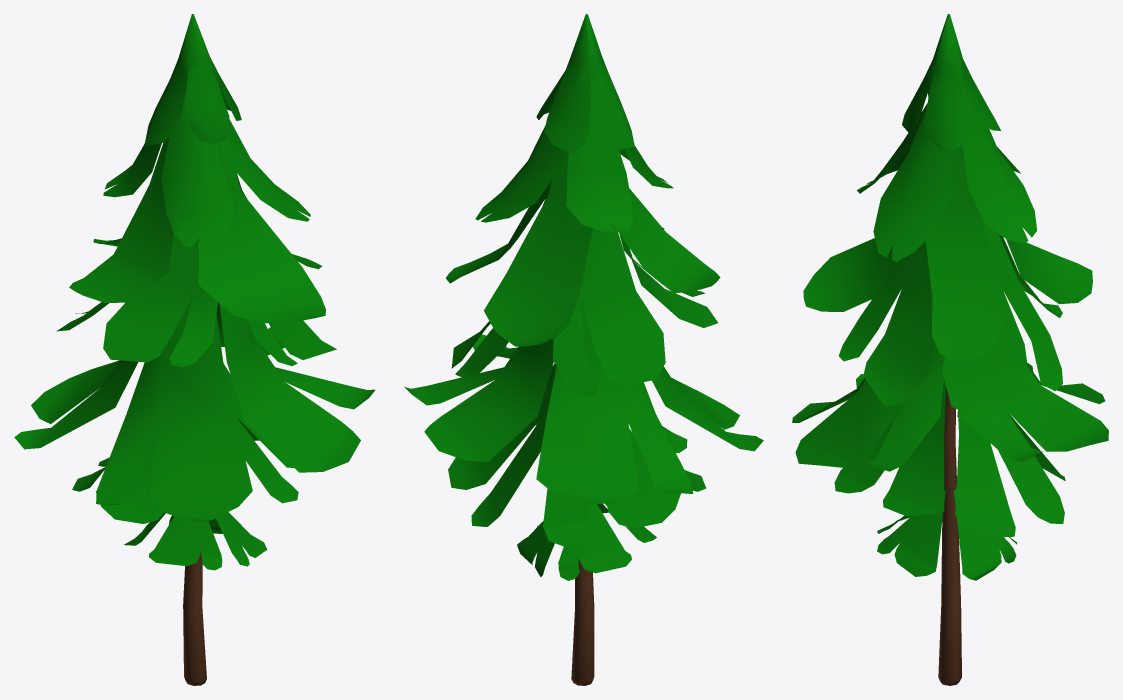
Rendered from pineTree04.fbx.
3 renders of one model, left to right at view 1: azimuth 30°, elevation 25°; view 2: azimuth 150°, elevation 25°; view 3: azimuth 270°, elevation 25°, orthographic.
Visible parts, largest first — view 1: pineTree04; view 2: pineTree04; view 3: pineTree04.
Boxes of the visible parts, left/top/right/bottom form: pineTree04: left=14, top=14, right=375, bottom=685; pineTree04: left=404, top=14, right=763, bottom=685; pineTree04: left=792, top=14, right=1108, bottom=685.
Bounding box in the file's own units: 976 × 2190 × 945.
